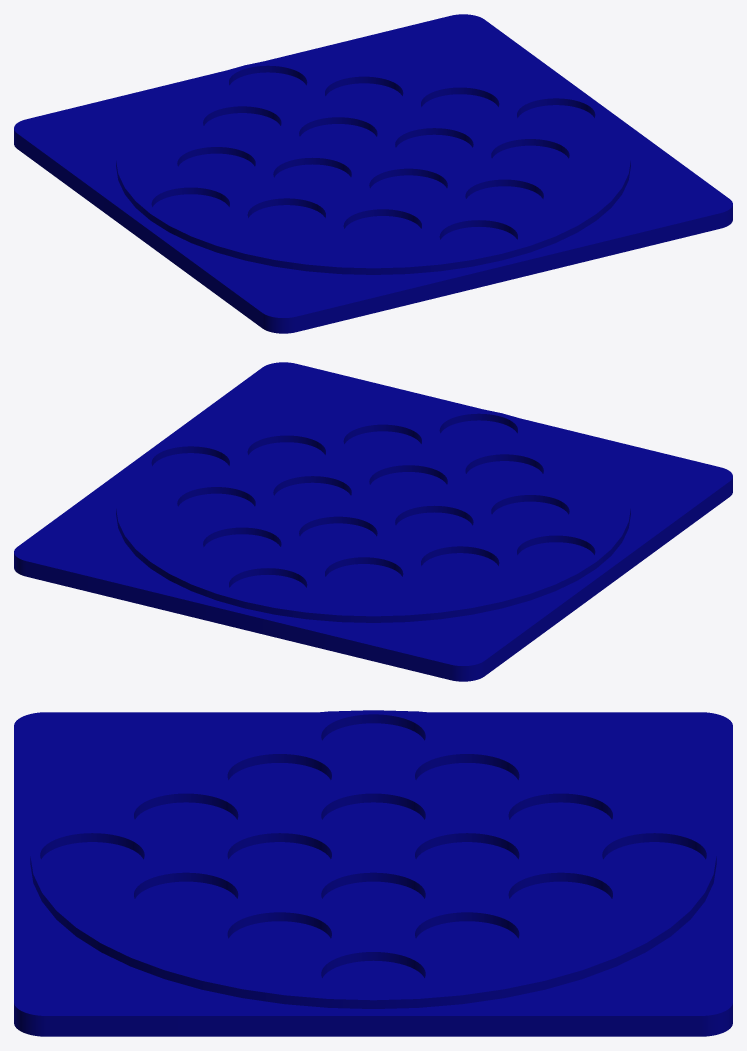
File: board.obj
3 views of the same model, one above another, from view 1: azimuth 30°, elevation 25°; view 2: azimuth 150°, elevation 25°; view 3: azimuth 270°, elevation 25° (orthographic). The views are drawn at different scales.
Parts seen in each view (by area): view 1: board.015_ID360, board_ID236, board.011_ID328, board.004_ID272, board.006_ID288, board.016_ID368, board.003_ID264, board.010_ID320, board.014_ID352, board.013_ID344, board.012_ID336, board.009_ID312 (+6 smaller); view 2: board.015_ID360, board_ID236, board.014_ID352, board.017_ID376, board.013_ID344, board.007_ID296, board.003_ID264, board.010_ID320, board.011_ID328, board.009_ID312, board.008_ID304, board.006_ID288 (+6 smaller); view 3: board.015_ID360, board_ID236, board.001_ID248, board.014_ID352, board.011_ID328, board.005_ID280, board.003_ID264, board.002_ID256, board.016_ID368, board.007_ID296, board.013_ID344, board.010_ID320 (+6 smaller).
Boxes of the visible parts, x1=… form: board.015_ID360: x1=116, y1=50, x2=630, y2=274; board_ID236: x1=14, y1=14, x2=732, y2=333; board.011_ID328: x1=299, y1=117, x2=377, y2=150; board.004_ID272: x1=465, y1=179, x2=543, y2=212; board.006_ID288: x1=203, y1=106, x2=281, y2=139; board.016_ID368: x1=421, y1=87, x2=499, y2=120; board.003_ID264: x1=151, y1=187, x2=229, y2=220; board.010_ID320: x1=395, y1=128, x2=473, y2=161; board.014_ID352: x1=369, y1=168, x2=447, y2=201; board.013_ID344: x1=343, y1=209, x2=421, y2=242; board.012_ID336: x1=247, y1=198, x2=325, y2=231; board.009_ID312: x1=517, y1=98, x2=595, y2=131; board.015_ID360: x1=116, y1=398, x2=630, y2=622; board_ID236: x1=14, y1=362, x2=732, y2=681; board.014_ID352: x1=369, y1=465, x2=447, y2=498; board.017_ID376: x1=203, y1=527, x2=281, y2=560; board.013_ID344: x1=465, y1=454, x2=543, y2=487; board.007_ID296: x1=247, y1=435, x2=325, y2=468; board.003_ID264: x1=517, y1=535, x2=595, y2=568; board.010_ID320: x1=273, y1=476, x2=351, y2=509; board.011_ID328: x1=299, y1=516, x2=377, y2=549; board.009_ID312: x1=151, y1=446, x2=229, y2=479; board.008_ID304: x1=421, y1=546, x2=499, y2=579; board.006_ID288: x1=325, y1=557, x2=403, y2=590; board.015_ID360: x1=30, y1=710, x2=716, y2=1008; board_ID236: x1=14, y1=712, x2=732, y2=1036; board.001_ID248: x1=321, y1=793, x2=425, y2=837; board.014_ID352: x1=227, y1=833, x2=331, y2=877; board.011_ID328: x1=415, y1=833, x2=519, y2=877; board.005_ID280: x1=40, y1=833, x2=144, y2=877; board.003_ID264: x1=321, y1=714, x2=425, y2=758; board.002_ID256: x1=602, y1=833, x2=706, y2=877; board.016_ID368: x1=415, y1=912, x2=519, y2=956; board.007_ID296: x1=227, y1=912, x2=331, y2=956; board.013_ID344: x1=134, y1=793, x2=238, y2=837; board.010_ID320: x1=321, y1=872, x2=425, y2=916.
Bounding box in the file's own units: 8.66 × 0.3937 × 8.66.
